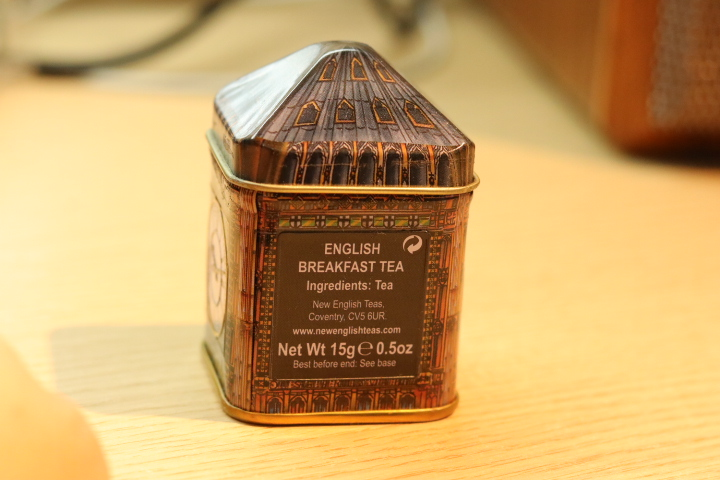Big Ben: (192, 32, 498, 444)
